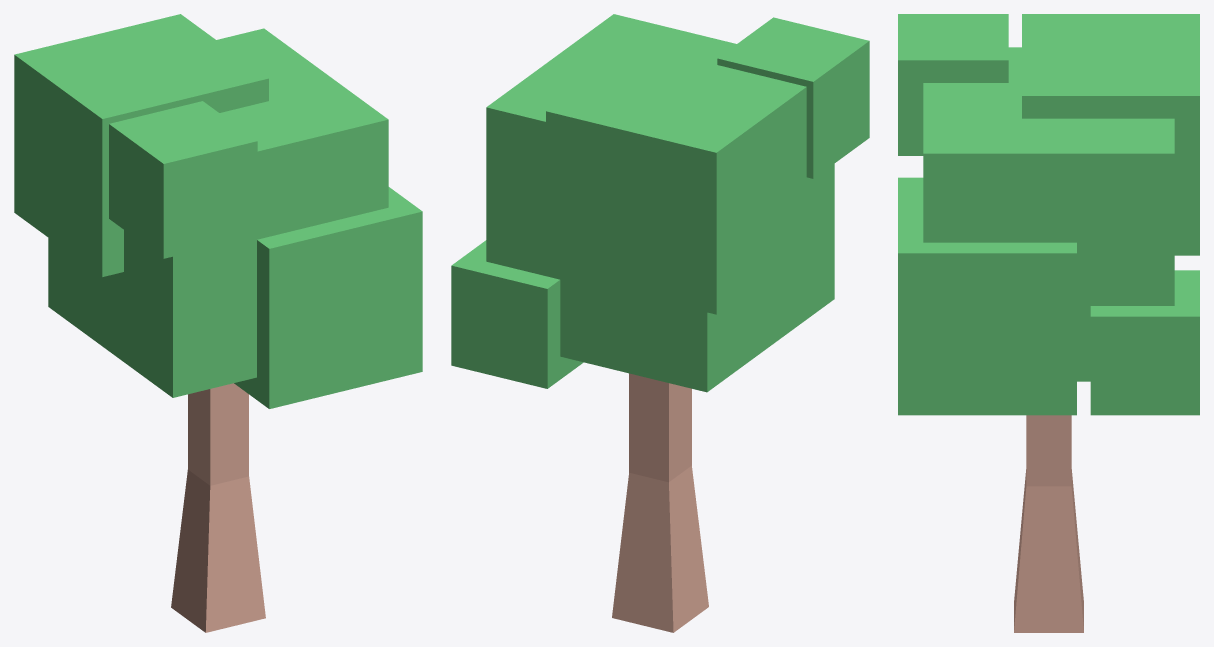
The model's file is n_tree_blocks_dark.glb.
The picture shows the model from 3 angles, left to right: view 1: azimuth 30°, elevation 25°; view 2: azimuth 150°, elevation 25°; view 3: azimuth 270°, elevation 25°; orthographic projection. The views are drawn at different scales.
Visible parts, largest first — view 1: tree_blocks_dark; view 2: tree_blocks_dark; view 3: tree_blocks_dark.
Boxes of the visible parts, <box> form: tree_blocks_dark: <box>14,14,422,632</box>; tree_blocks_dark: <box>451,14,869,632</box>; tree_blocks_dark: <box>898,14,1199,632</box>.
Size of the model in its own units: 2.78 by 5.5 by 2.78.
